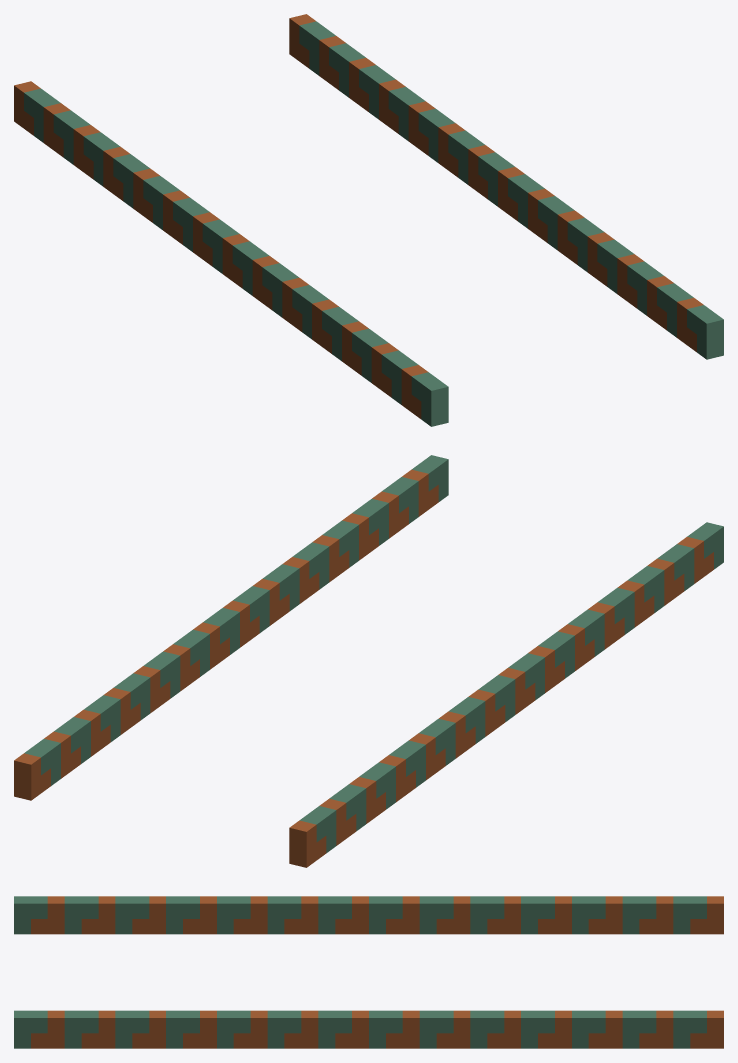
The model's file is upg_galleon_copper_hull_lod1.glb.
3 views of the same model, one above another, from view 1: azimuth 30°, elevation 25°; view 2: azimuth 150°, elevation 25°; view 3: azimuth 270°, elevation 25° (orthographic). The views are drawn at different scales.
Visible parts, largest first — view 1: upg_galleon_copper_hull; view 2: upg_galleon_copper_hull; view 3: upg_galleon_copper_hull.
Part boxes in pixels (x1,y1,x2,y2): upg_galleon_copper_hull: (14,14,723,426); upg_galleon_copper_hull: (14,455,723,867); upg_galleon_copper_hull: (14,896,723,1048).
Size of the model in its own units: 8.5 by 1 by 21.
